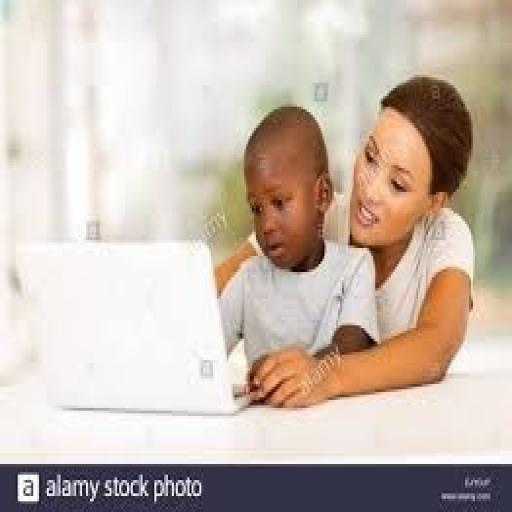using_laptop: (14, 235, 258, 416)
